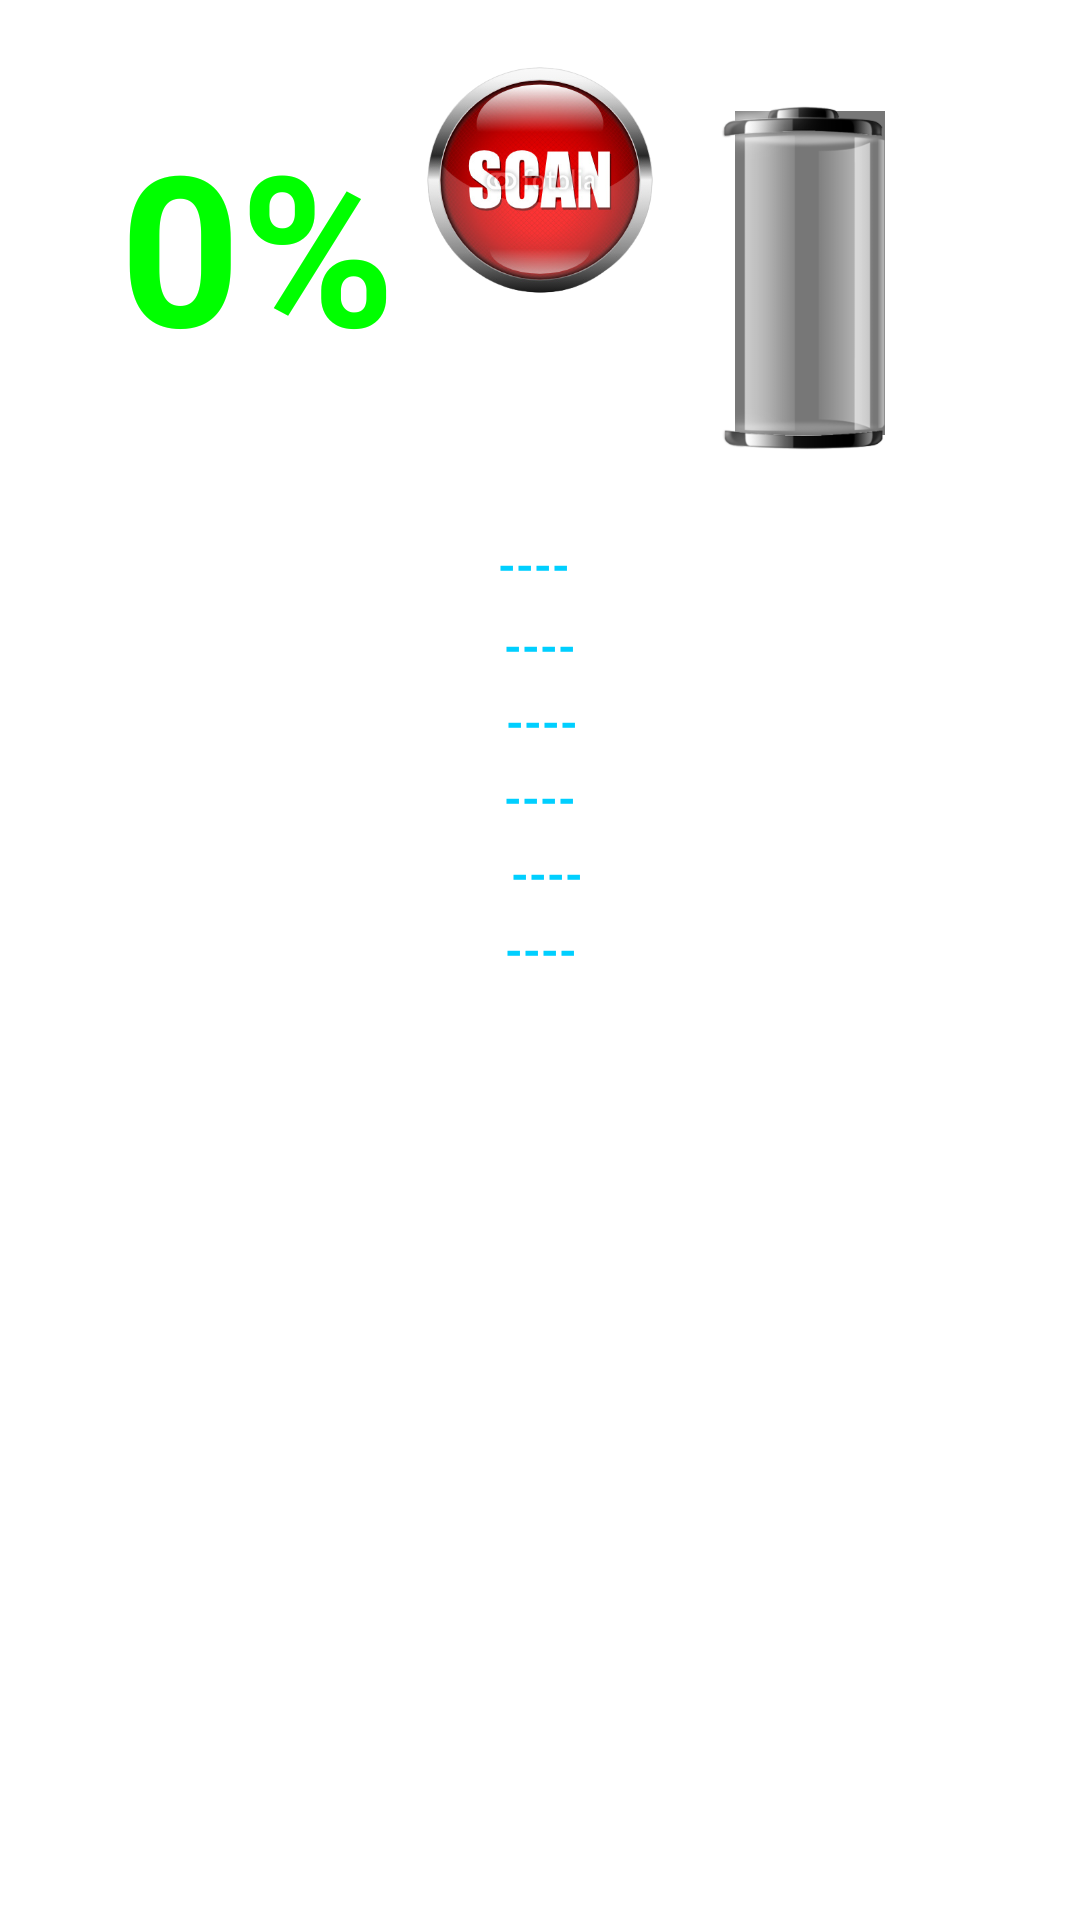

Named icons in this screenshot (1080 x 1920) and their centers, (x,y):
battery: (804,278)
